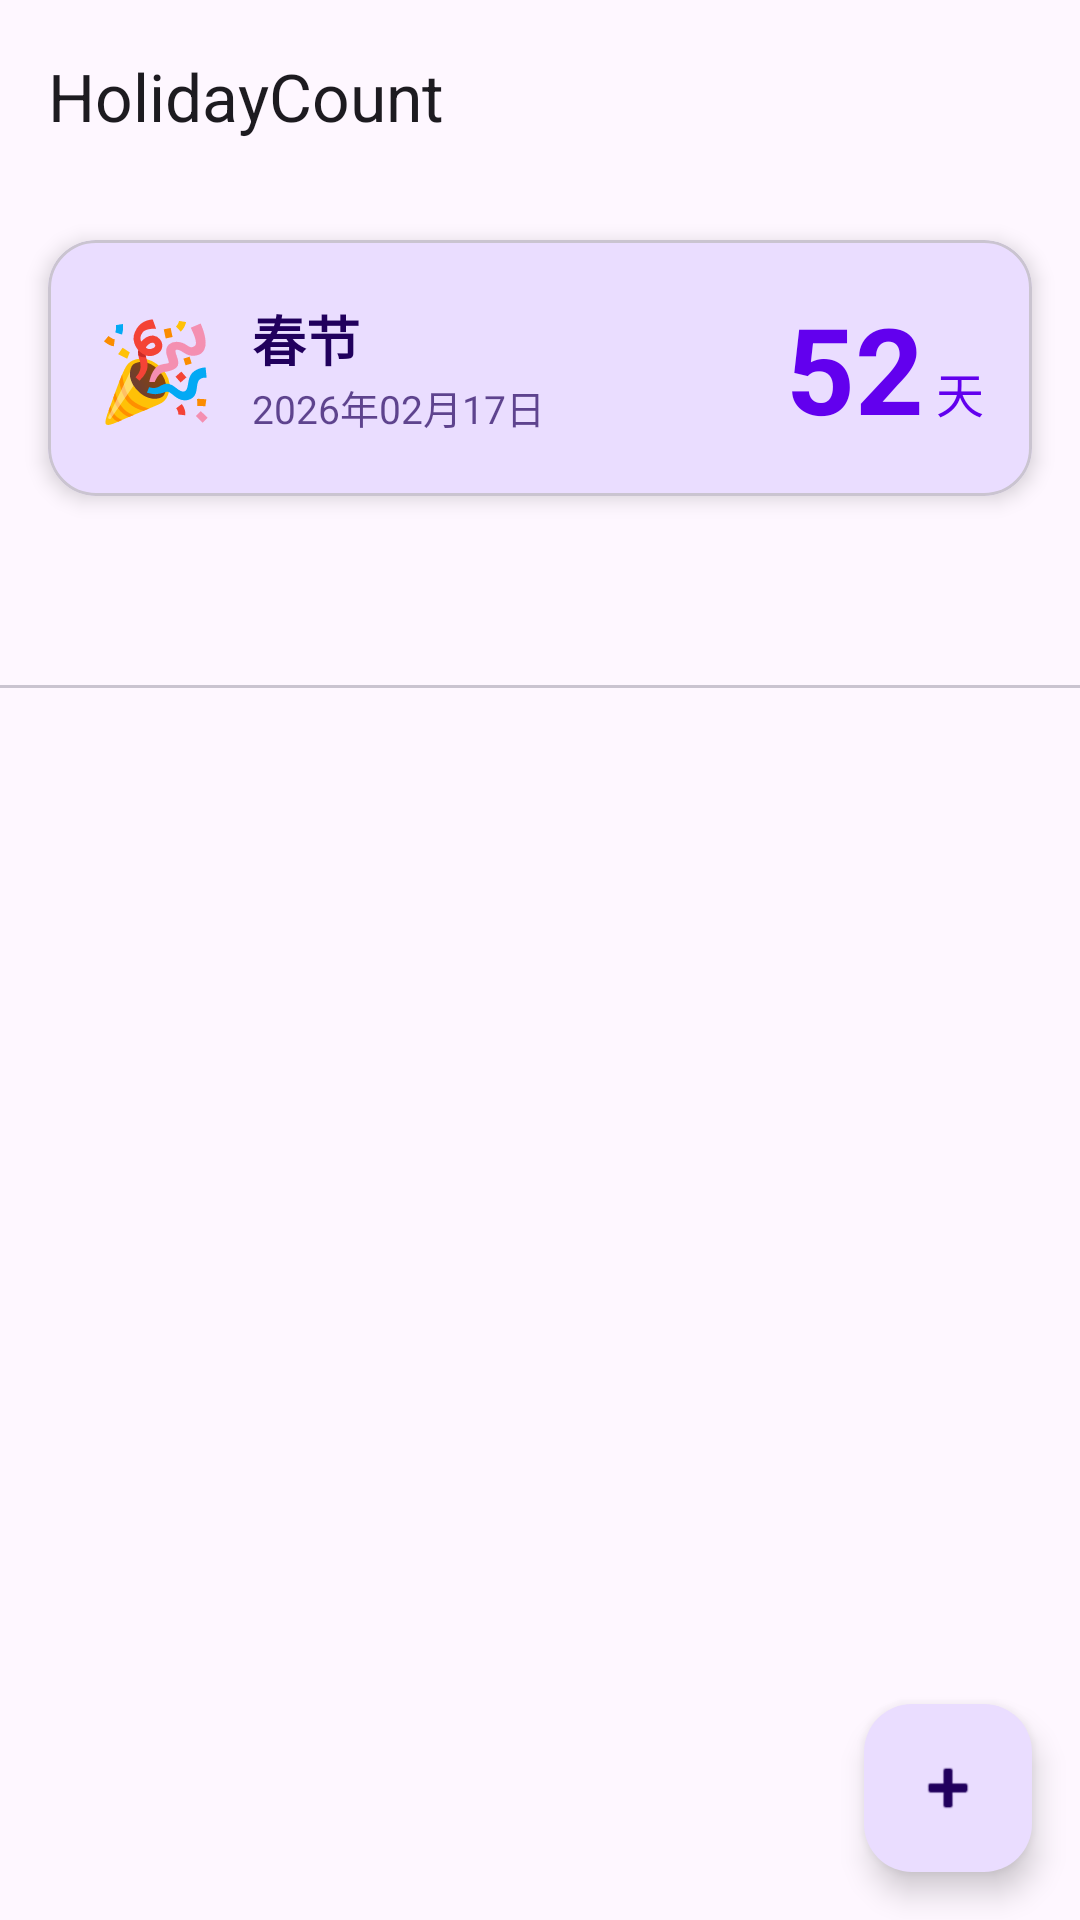

Where to tap for icons on this 1080px×1920px app screen, as point (x, y):
添加事件: point (948, 1788)
